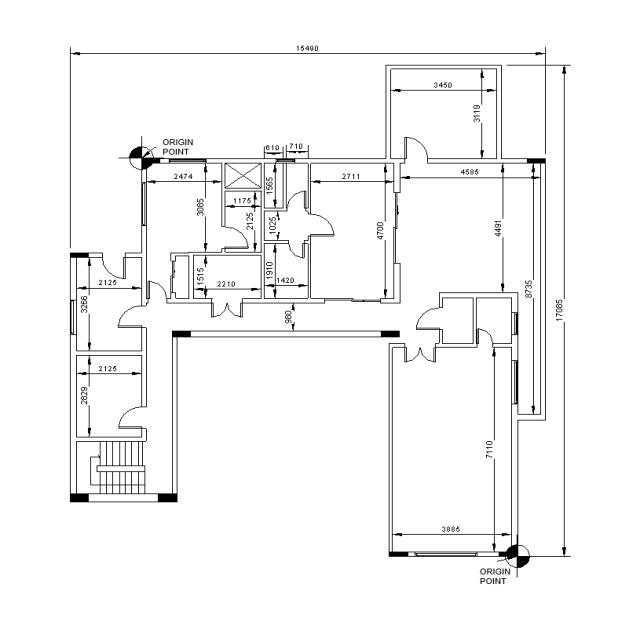Column: (158, 493, 178, 502), (70, 493, 89, 502), (498, 551, 518, 557), (380, 331, 400, 337), (527, 158, 546, 164), (172, 331, 191, 337), (70, 252, 88, 258), (142, 158, 160, 163), (388, 552, 408, 556)
Door: (102, 252, 126, 279), (404, 137, 428, 163), (416, 307, 443, 330), (222, 226, 248, 249), (118, 306, 146, 327), (308, 214, 334, 236), (119, 407, 146, 428), (148, 281, 167, 303), (287, 190, 306, 211), (477, 328, 493, 348), (288, 240, 304, 258)
Double-Door: (212, 298, 242, 318), (404, 344, 436, 362)
Sliding Door: (394, 192, 401, 264), (324, 298, 380, 303), (171, 261, 176, 293)
Staircase: (76, 441, 147, 494)
Window: (415, 552, 477, 557), (512, 360, 518, 404), (70, 300, 77, 335), (169, 158, 207, 164), (142, 182, 146, 226), (511, 312, 518, 335), (276, 158, 296, 164)
